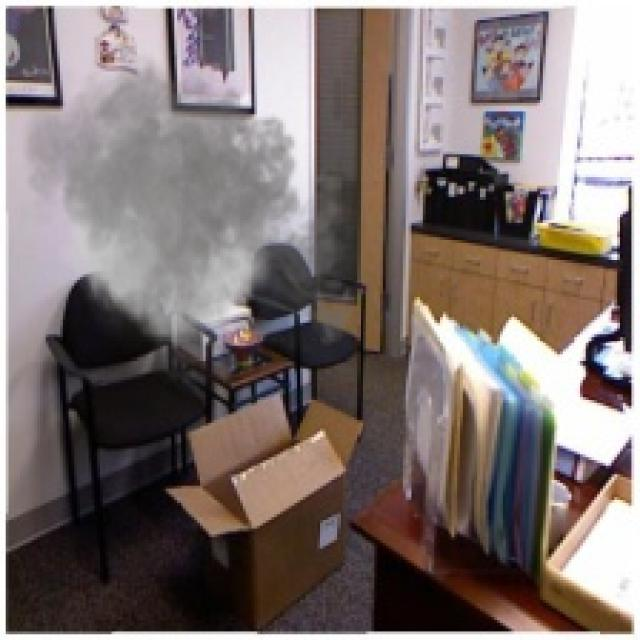smoke: (8, 40, 366, 406)
